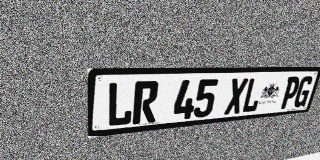4: (172, 79, 198, 120)
5: (193, 79, 218, 118)
G: (292, 76, 314, 108)
L: (106, 81, 134, 127), (241, 77, 265, 113)
P: (279, 76, 302, 109)
R: (132, 81, 159, 124)
X: (224, 78, 248, 115)
